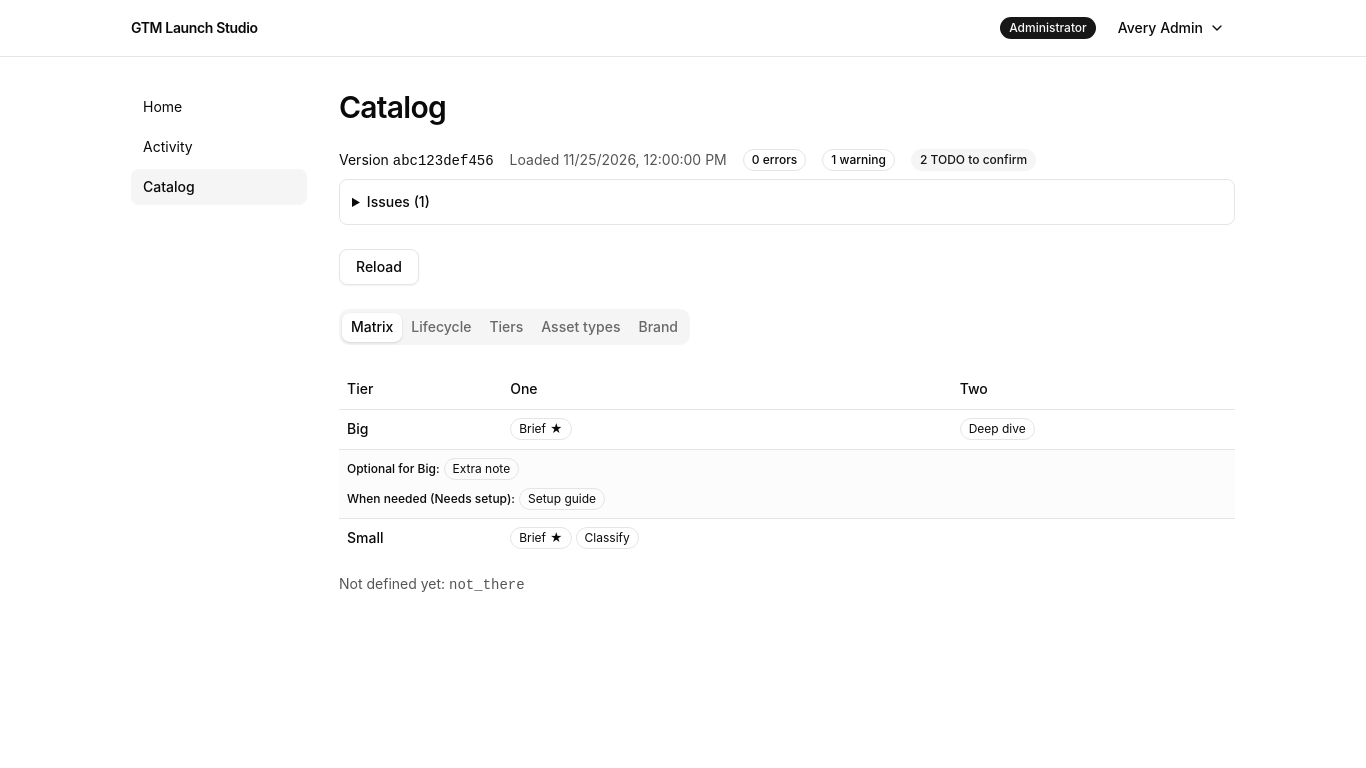
CatalogPage › asset type sheet › shows the spec, prompt, rubric and examples, and closes with its button
Expected: the heading "Catalog" is shown, [339,89,446,125]
Click the tab "Asset types" at (581, 327), box [532,312,630,342]
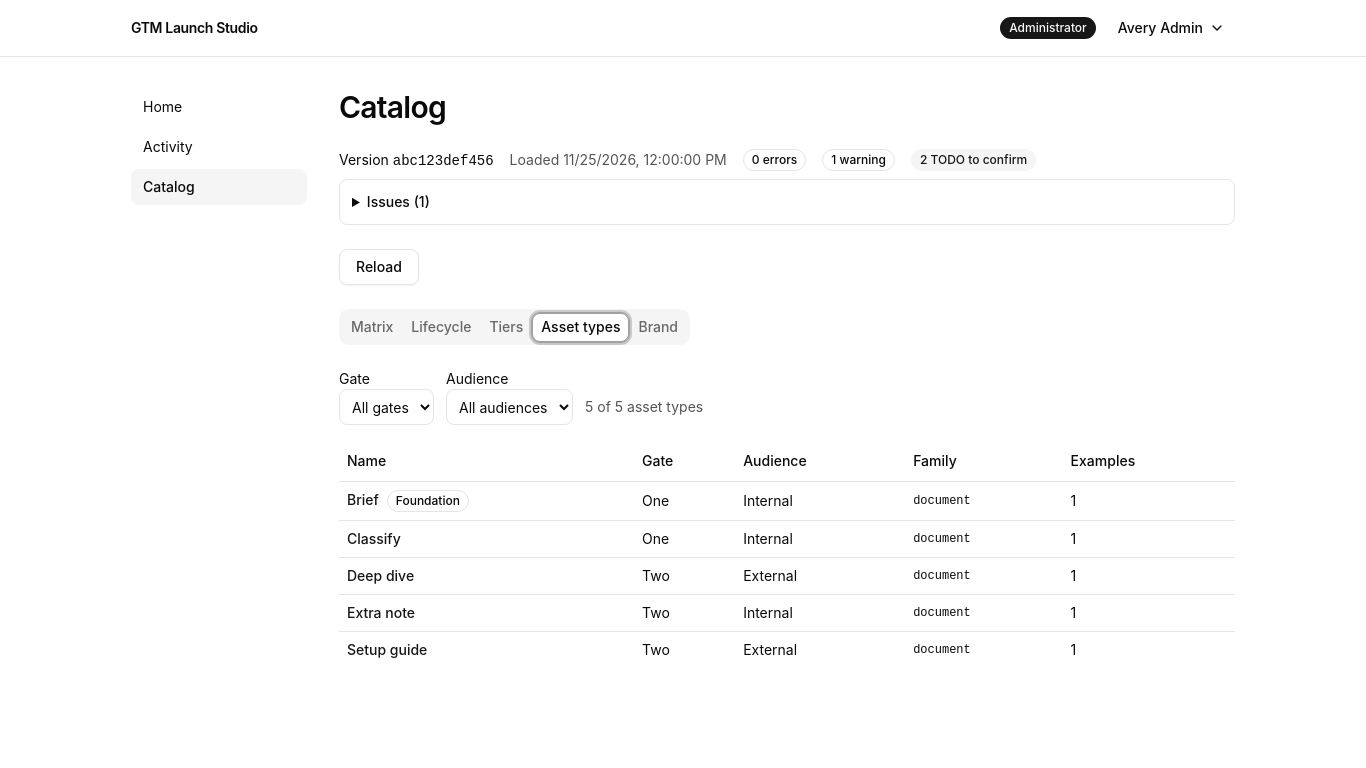
Click the button with aria-label "Open Brief" at (363, 500), box [347,490,379,510]
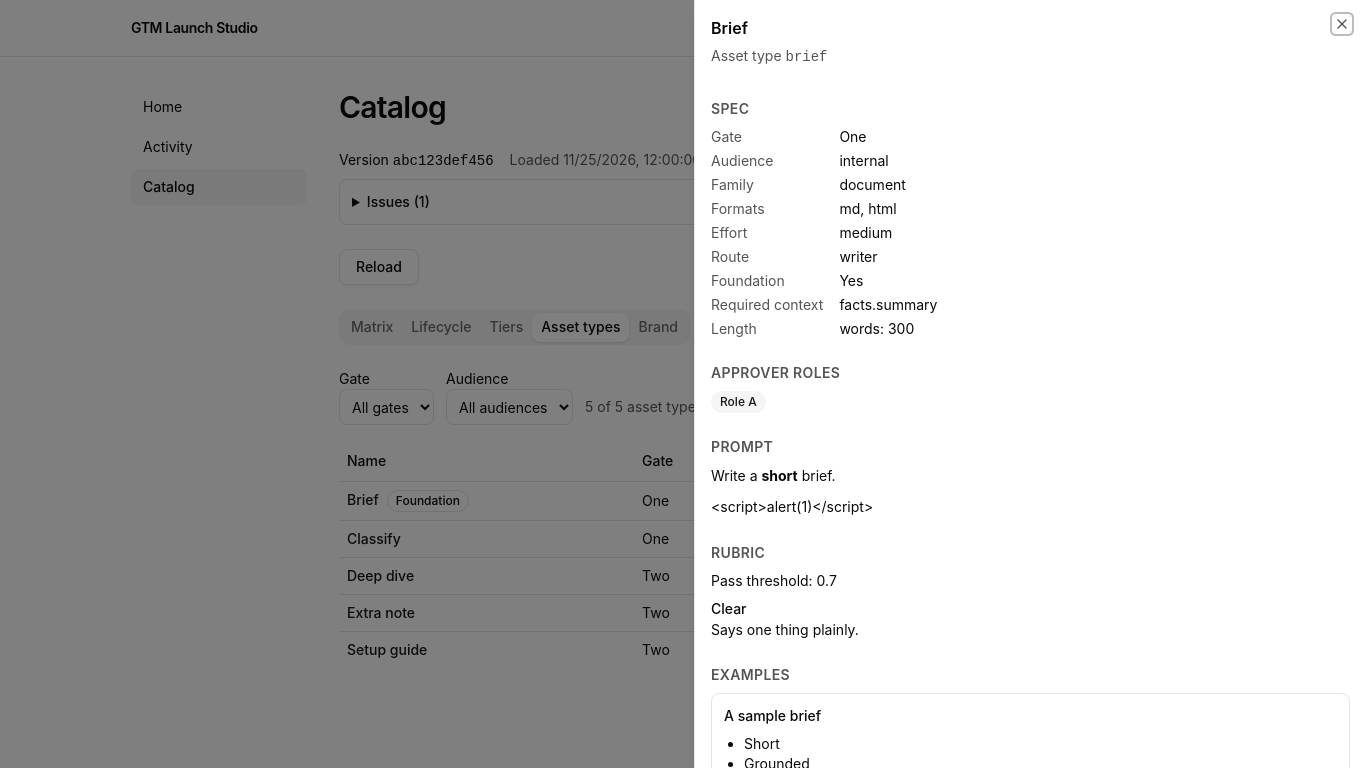
Now the text "Pass threshold: 0.7" is shown, box [711,572,837,588]
Now the heading "Clear" is shown, box [711,600,746,616]
Now the heading "A sample brief" is shown, box [724,707,821,724]
Click the button named "Close" at (1342, 24), box [1334,16,1350,32]
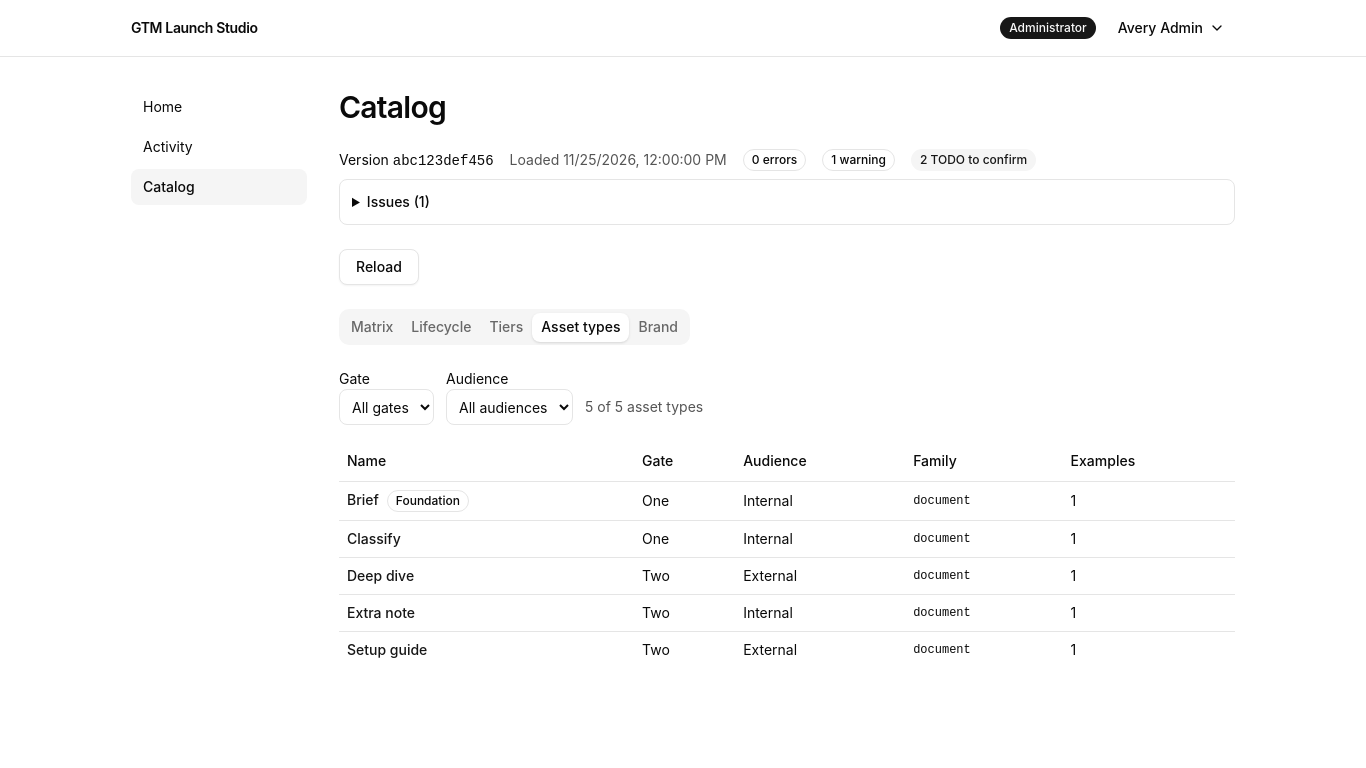
Now the dialog is gone
